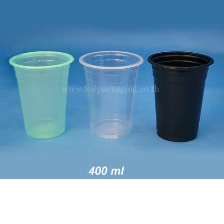glass: (6, 48, 75, 142)
